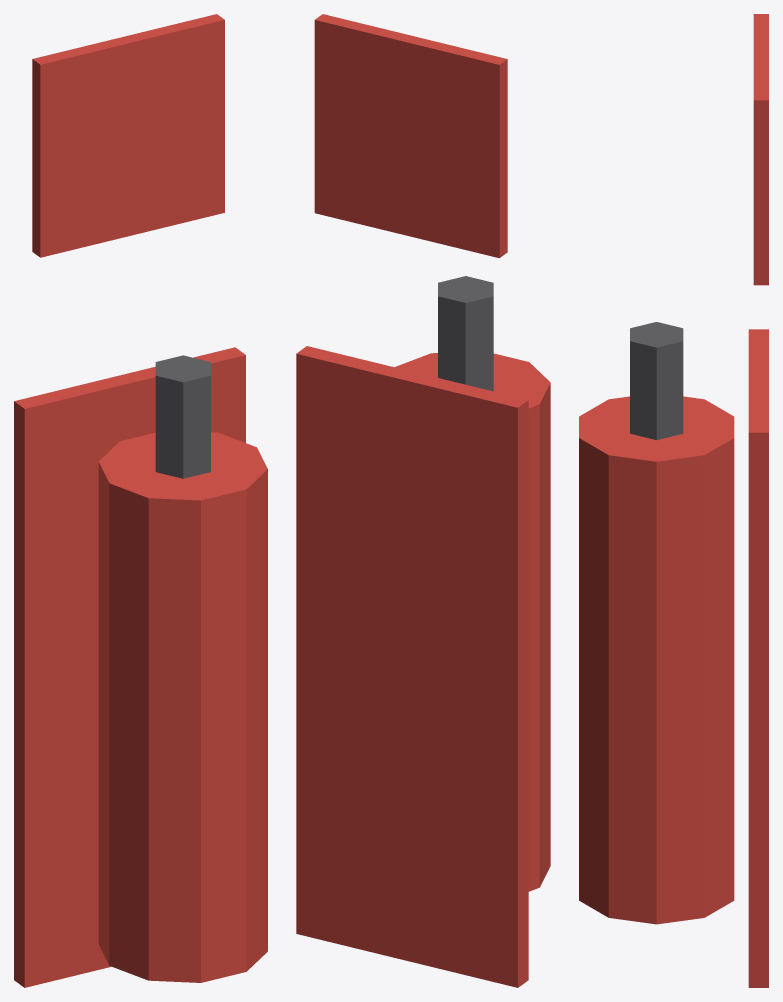
File: Fire_Extinguisher.fbx
3 renders of one model, left to right at view 1: azimuth 30°, elevation 25°; view 2: azimuth 150°, elevation 25°; view 3: azimuth 270°, elevation 25°, orthographic. The views are drawn at different scales.
Parts seen in each view (by area): view 1: Fire_Extinguisher; view 2: Fire_Extinguisher; view 3: Fire_Extinguisher.
Boxes of the visible parts, <box> form: Fire_Extinguisher: <box>14,14,267,987</box>; Fire_Extinguisher: <box>296,14,550,987</box>; Fire_Extinguisher: <box>579,14,768,987</box>.
Bounding box in the file's own units: 0.24 × 0.95 × 0.1861.
